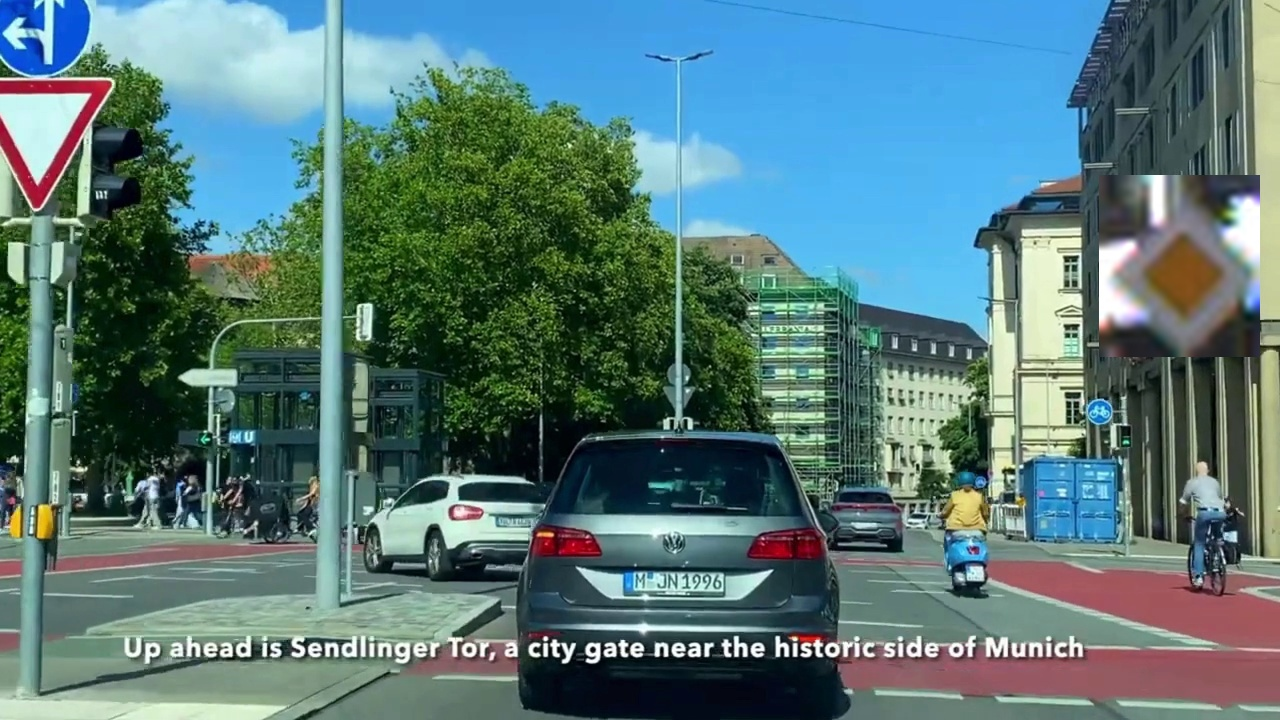Priority road: (1099, 175, 1260, 357)
